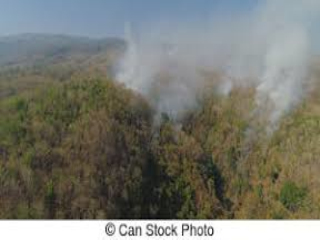smoke: (117, 15, 312, 128)
